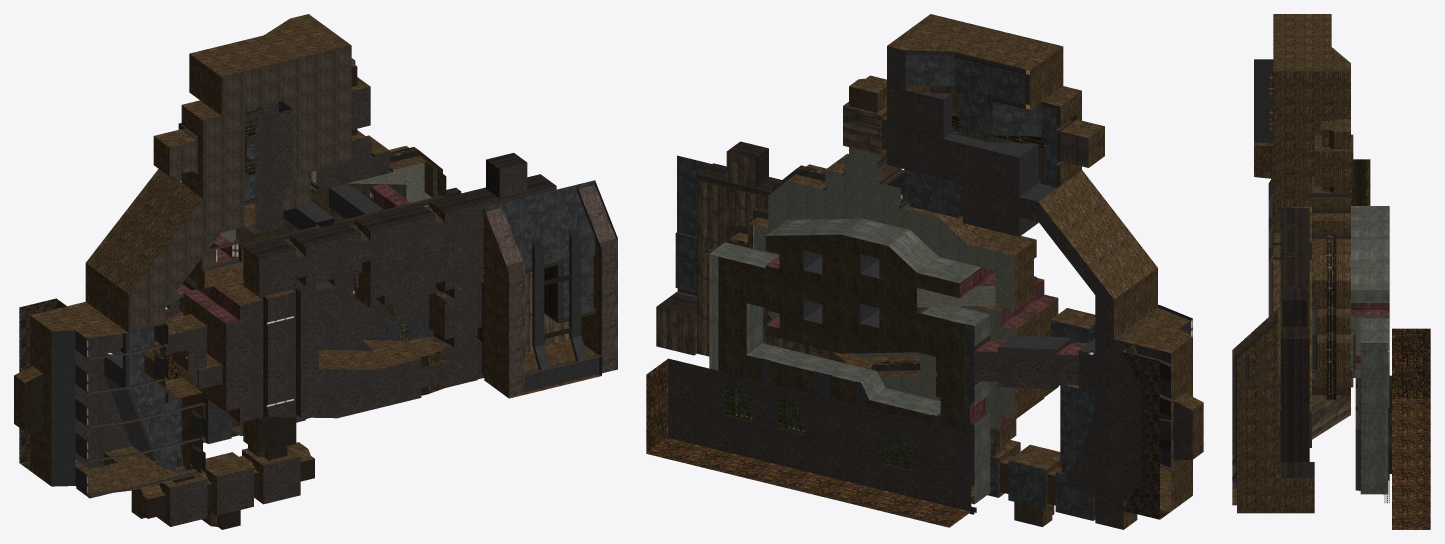
Rendered from DOM-Cogwork.obj.
3 renders of one model, left to right at view 1: azimuth 30°, elevation 25°; view 2: azimuth 150°, elevation 25°; view 3: azimuth 270°, elevation 25°, orthographic. The views are drawn at different scales.
Visible parts, largest first — view 1: UT_cementf1, of1_regbrick, Mine_Base_Ironwalx, Metalmys_MysMetl2, of1_UNRfloor, Mine_Trim_MIRONBR1, UTtech1_pillar_ClfPilr1, Metalmys_MysIron6, Mine_Base_MCMETL, UTtech1_pillar_ClfPilr3, UTtech1_Base_bmwallBASE, Mine_Floor_Bridge (+4 smaller); view 2: UT_cementf1, of1_regbrick, UTtech1_Misc_UTdirt1, of1_UNRfloor, UTtech1_Base_cbutbase_1, UTtech1_Wall_ClifCon2, Indus6_Woods_DeckRf1, UT_rokwal2, Metalmys_MysMetl2, Mine_Base_Mud2, Mine_Trim_MIRONBR1, UTtech1_pillar_ClfPilr3 (+7 smaller); view 3: of1_regbrick, UTtech1_Wall_ClifCon2, UT_rokwal2, Metalmys_MysIron6, Mine_Trim_MIRONBR1, Mine_pillar_MPIPES5, Metalmys_MysMetl2, Indus6_Woods_DeckRf1, UTtech1_Base_cbutbase_3, Mine_Wall_GRNWALL3, UTtech1_pillar_ClfPilr3, Mine_Base_MCMETL (+2 smaller).
Boxes of the visible parts, x1=… form: UT_cementf1: x1=75, y1=86, x2=556, y2=526; of1_regbrick: x1=14, y1=14, x2=617, y2=529; Mine_Base_Ironwalx: x1=128, y1=45, x2=373, y2=400; Metalmys_MysMetl2: x1=51, y1=101, x2=599, y2=493; of1_UNRfloor: x1=130, y1=107, x2=594, y2=472; Mine_Trim_MIRONBR1: x1=88, y1=106, x2=601, y2=495; UTtech1_pillar_ClfPilr1: x1=485, y1=185, x2=617, y2=395; Metalmys_MysIron6: x1=243, y1=153, x2=556, y2=321; Mine_Base_MCMETL: x1=24, y1=66, x2=571, y2=529; UTtech1_pillar_ClfPilr3: x1=121, y1=184, x2=410, y2=421; UTtech1_Base_bmwallBASE: x1=208, y1=313, x2=433, y2=443; Mine_Floor_Bridge: x1=247, y1=144, x2=483, y2=393; UT_cementf1: x1=668, y1=46, x2=1192, y2=529; of1_regbrick: x1=694, y1=14, x2=1203, y2=529; UTtech1_Misc_UTdirt1: x1=718, y1=234, x2=973, y2=514; of1_UNRfloor: x1=675, y1=55, x2=1095, y2=520; UTtech1_Base_cbutbase_1: x1=754, y1=147, x2=1014, y2=430; UTtech1_Wall_ClifCon2: x1=709, y1=218, x2=990, y2=503; Indus6_Woods_DeckRf1: x1=656, y1=106, x2=999, y2=455; UT_rokwal2: x1=646, y1=359, x2=970, y2=527; Metalmys_MysMetl2: x1=803, y1=92, x2=1192, y2=512; Mine_Base_Mud2: x1=1122, y1=352, x2=1159, y2=519; Mine_Trim_MIRONBR1: x1=675, y1=50, x2=1170, y2=470; UTtech1_pillar_ClfPilr3: x1=766, y1=255, x2=1088, y2=429; of1_regbrick: x1=1232, y1=14, x2=1384, y2=513; UTtech1_Wall_ClifCon2: x1=1351, y1=206, x2=1389, y2=494; UT_rokwal2: x1=1392, y1=328, x2=1430, y2=529; Metalmys_MysIron6: x1=1280, y1=208, x2=1314, y2=478; Mine_Trim_MIRONBR1: x1=1232, y1=176, x2=1360, y2=490; Mine_pillar_MPIPES5: x1=1268, y1=72, x2=1336, y2=399; Metalmys_MysMetl2: x1=1232, y1=59, x2=1389, y2=480; Indus6_Woods_DeckRf1: x1=1312, y1=395, x2=1350, y2=439; UTtech1_Base_cbutbase_3: x1=1351, y1=290, x2=1389, y2=385; Mine_Wall_GRNWALL3: x1=1351, y1=159, x2=1370, y2=205; UTtech1_pillar_ClfPilr3: x1=1351, y1=303, x2=1389, y2=368; Mine_Base_MCMETL: x1=1355, y1=375, x2=1391, y2=480.
Size of the model in its own units: 71.32 by 57.3 by 24.99.
